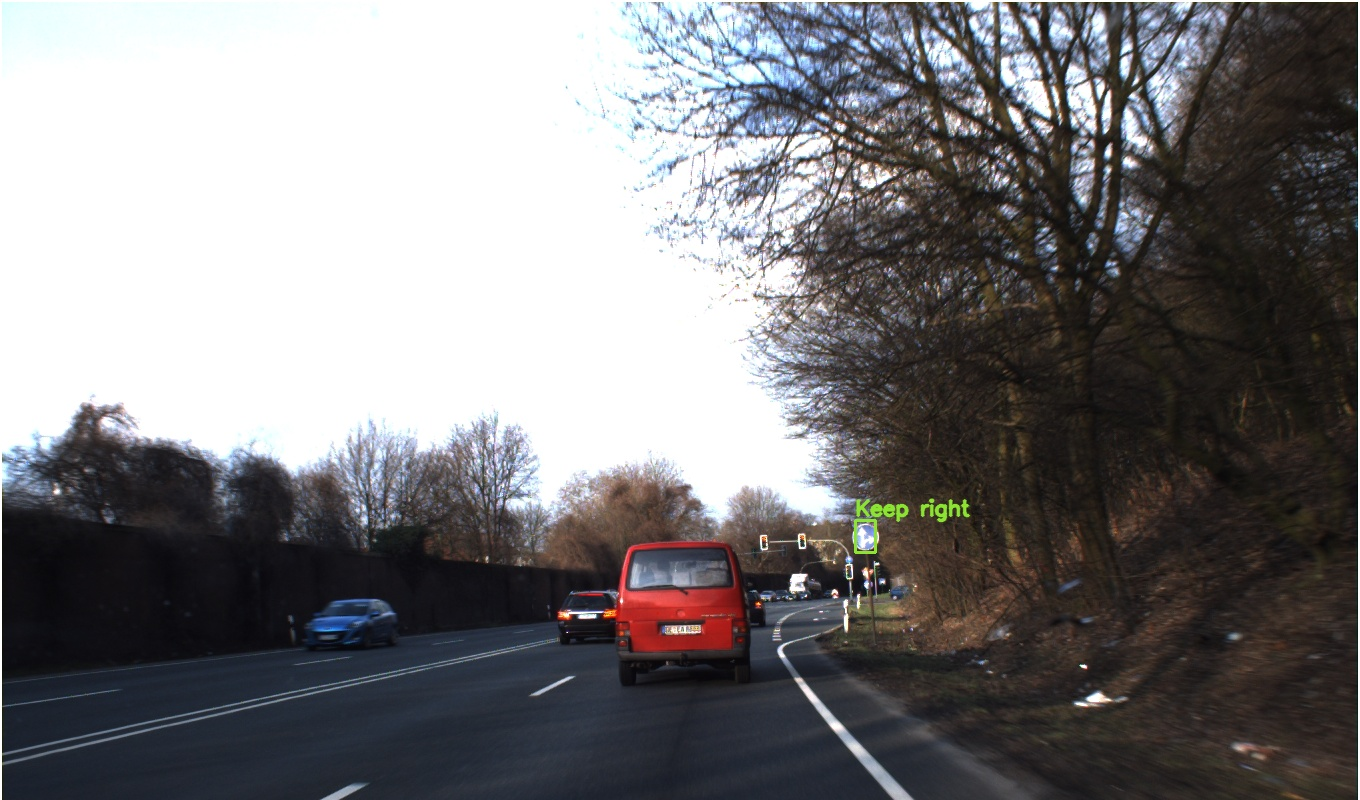Speed limit (50km/h): (1113, 370, 1154, 411)
